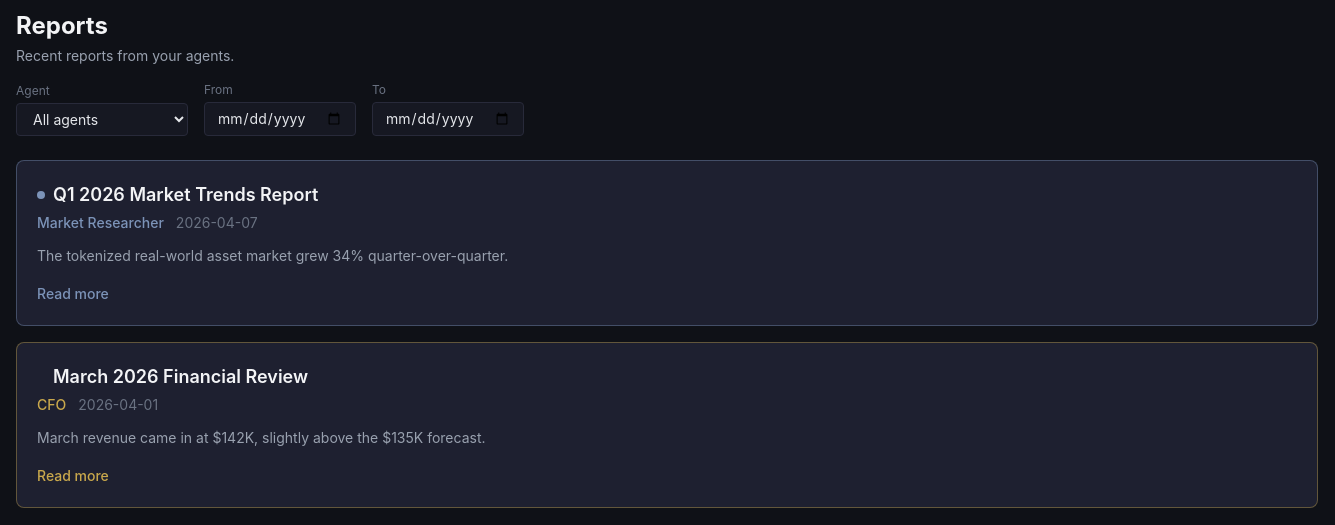
Test: ReportsFeed › shows "No reports match" when filters exclude all reports
Expected: the heading "Q1 2026 Market Trends Report" is shown, [53,181,318,209]
// Set a date range that excludes all reports
In the date field with test id "date-from": (280, 119) [204,102,356,136], type "2027-01-01"
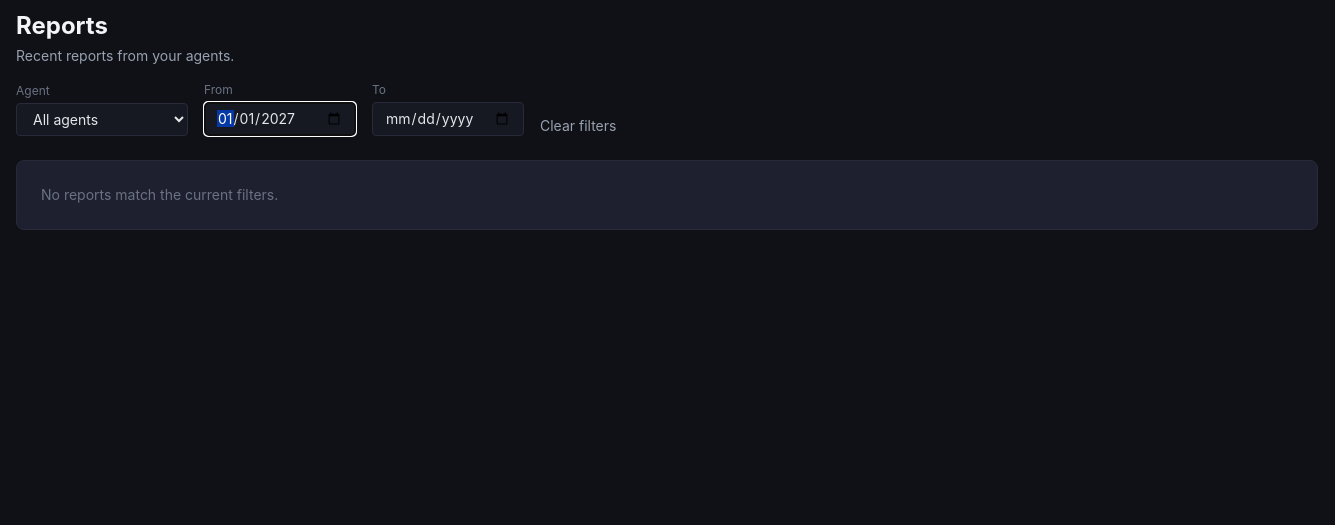
Expected: the text "No reports match the current filters." is shown, [41,186,278,203]
